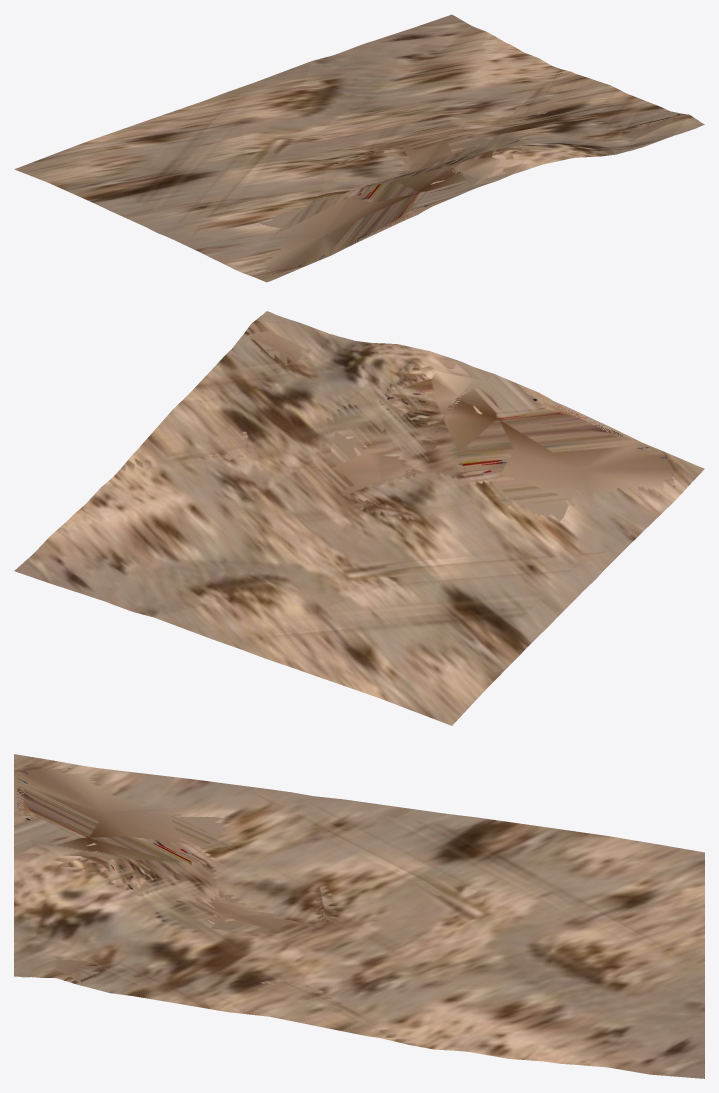
The picture shows the model from 3 angles, top to bottom: view 1: azimuth 30°, elevation 25°; view 2: azimuth 150°, elevation 25°; view 3: azimuth 270°, elevation 25°; orthographic projection. The views are drawn at different scales.
Bounding box in the file's own units: 2.09 × 0.5618 × 2.09.
Materials: 3 (3 with a texture image).
